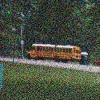buses: (27, 43, 83, 62)
